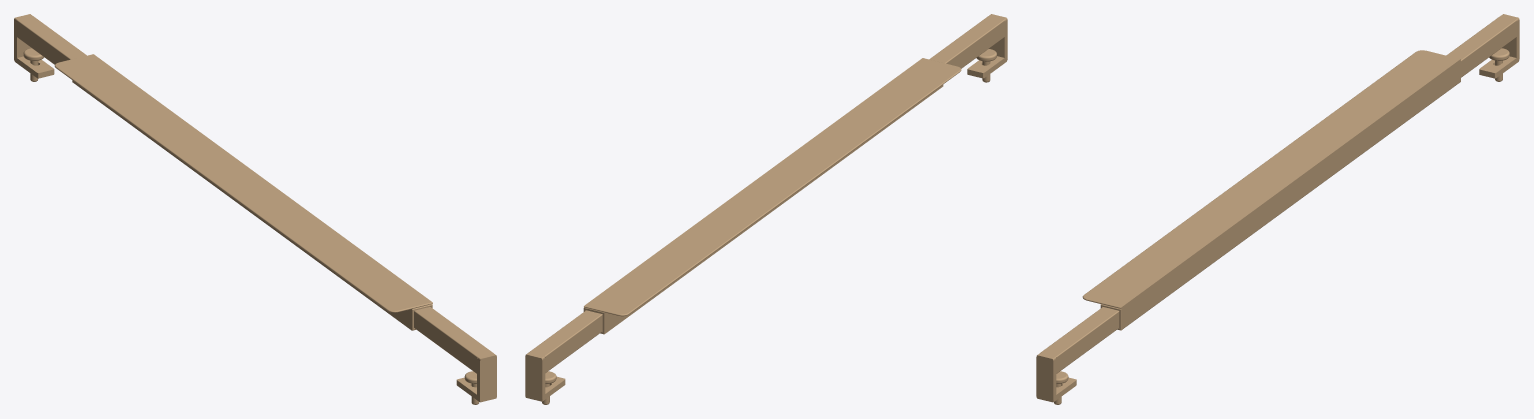
Rendered from easel-bar.glb.
3 views of the same model, side by side, from view 1: azimuth 30°, elevation 25°; view 2: azimuth 150°, elevation 25°; view 3: azimuth 330°, elevation 25° (orthographic).
Parts seen in each view (by area): view 1: EaselBar; view 2: EaselBar; view 3: EaselBar.
Part boxes in pixels (x1,y1,x2,y2): EaselBar: (14,14,496,404); EaselBar: (525,14,1007,404); EaselBar: (1036,14,1519,404).
Bounding box in the file's own units: 0.0784 × 0.1089 × 1.53.
